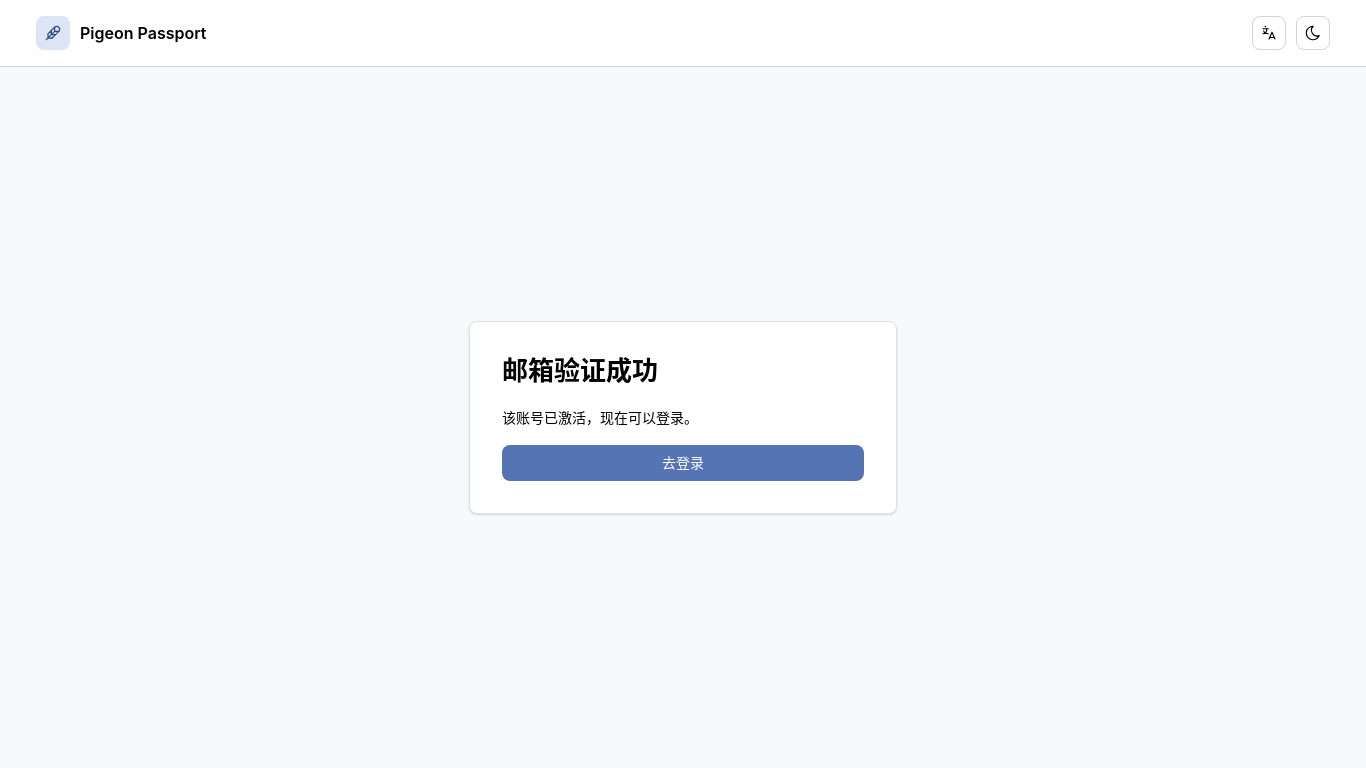
Test: VerifyEmailPage › links back to the login page after success
This screenshot has width=1366, height=768.
Click the link "去登录". click: (683, 462)
box: x1=502 y1=444 x2=864 y2=480
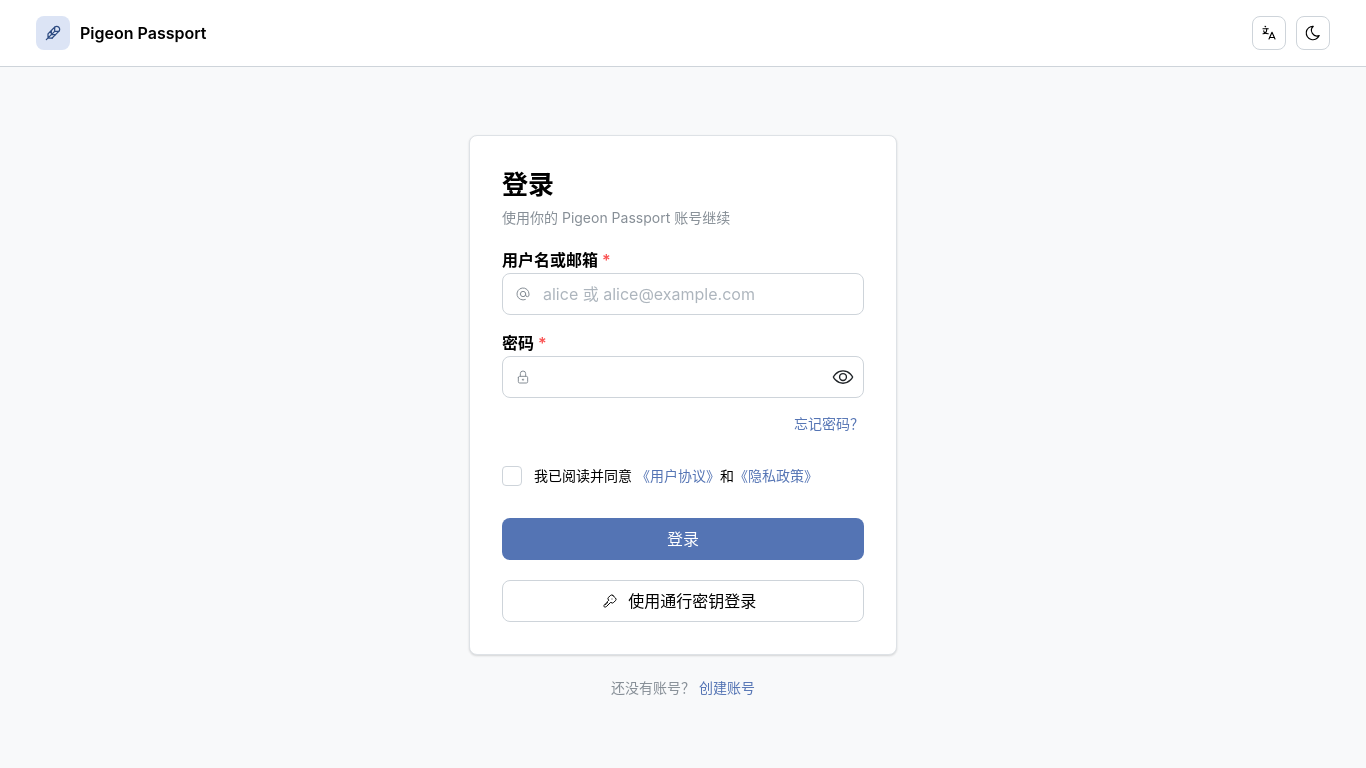
Expected: the heading "登录" is shown, x1=502 y1=169 x2=554 y2=200
